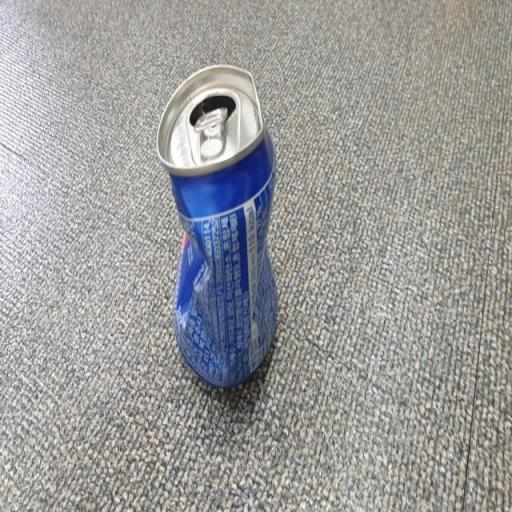metal: (139, 54, 317, 440)
